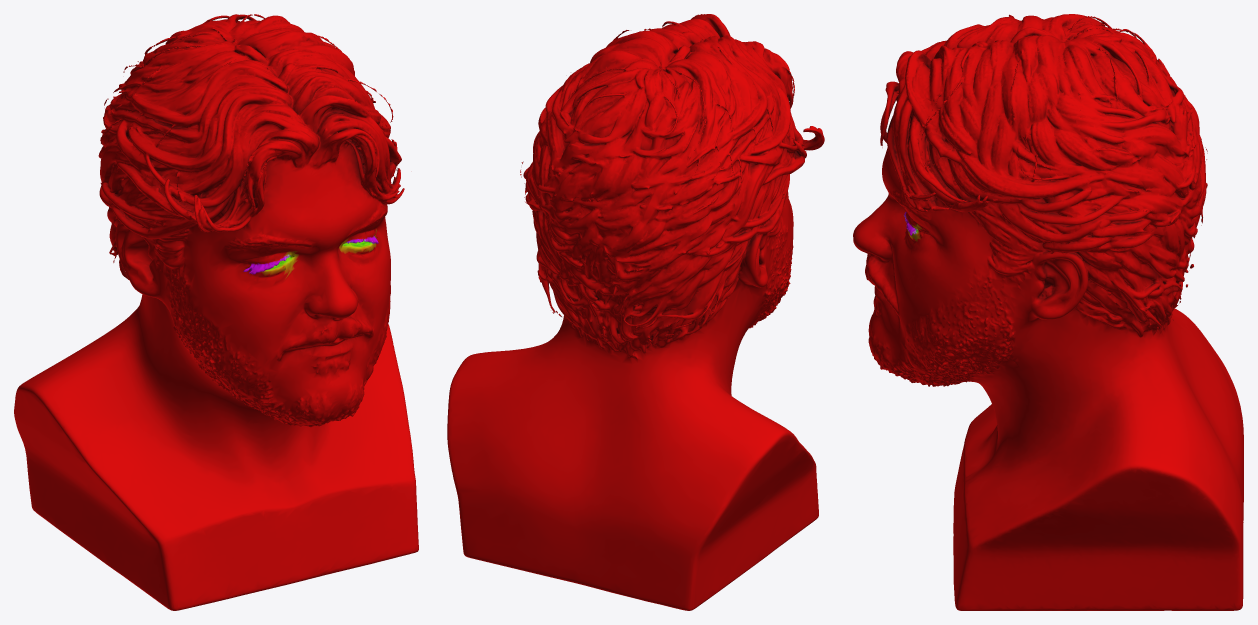
The model's file is simon_mobile.glb.
3 renders of one model, left to right at view 1: azimuth 30°, elevation 25°; view 2: azimuth 150°, elevation 25°; view 3: azimuth 270°, elevation 25°, orthographic. The views are drawn at different scales.
Visible parts, largest first — view 1: head; view 2: head; view 3: head.
Boxes of the visible parts, <box> form: head: <box>14,14,418,610</box>; head: <box>447,14,824,610</box>; head: <box>853,14,1243,610</box>.
Bounding box in the file's own units: 1.32 × 1.9 × 1.29.
